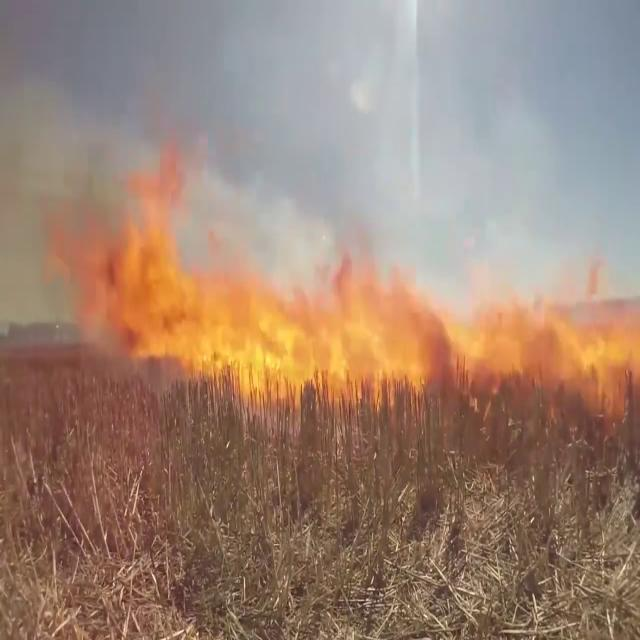Fire: (48, 151, 468, 403), (452, 269, 638, 404)
